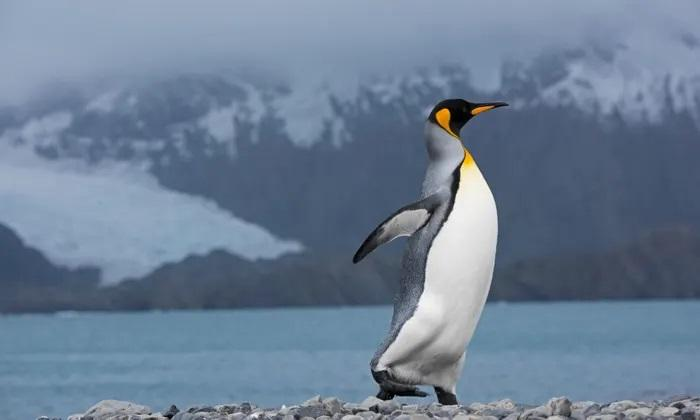king: (253, 80, 570, 413)
